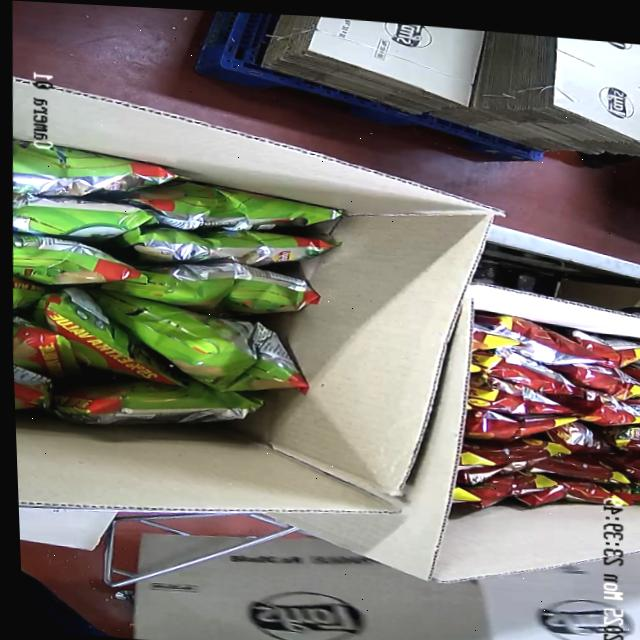MASALA: (444, 306, 640, 541)
YOGURT_HERB: (5, 135, 342, 457)
